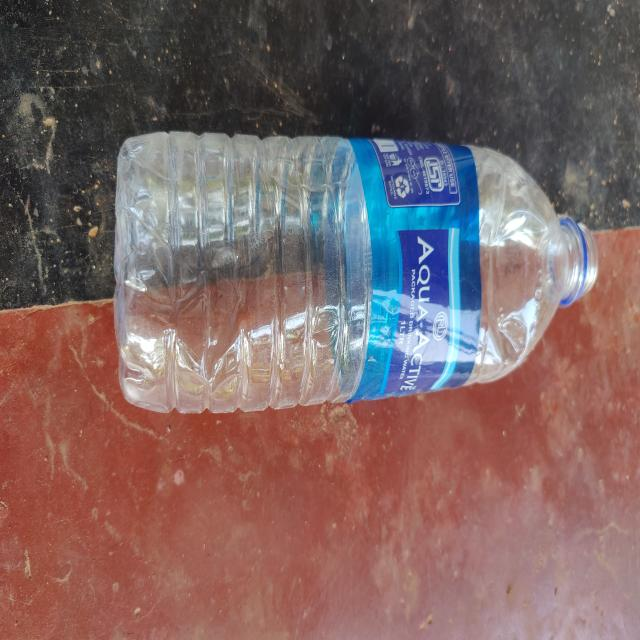plastic: (112, 122, 598, 422)
